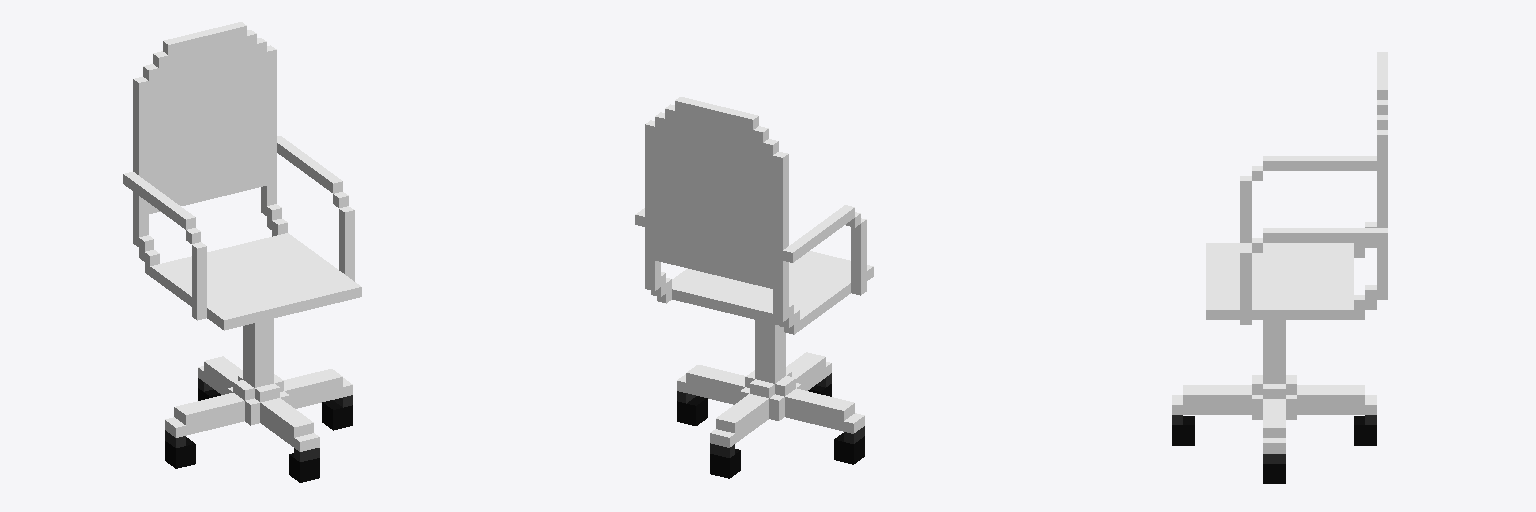
3 views of the same model, side by side, from view 1: azimuth 30°, elevation 25°; view 2: azimuth 150°, elevation 25°; view 3: azimuth 270°, elevation 25° (orthographic).
Parts seen in each view (by area): view 1: object 1; view 2: object 1; view 3: object 1.
Part boxes in pixels (left/top/right/bottom): object 1: left=123, top=22, right=361, bottom=482; object 1: left=635, top=97, right=873, bottom=478; object 1: left=1172, top=52, right=1387, bottom=483.
Size of the model in its own units: 1.8 by 3.6 by 1.9.
Materials: 1 (1 with a texture image).